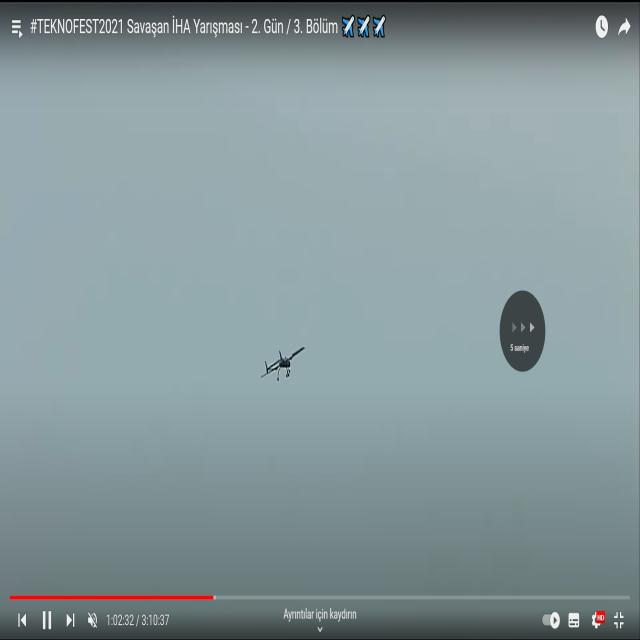iha: (259, 348, 306, 380)
